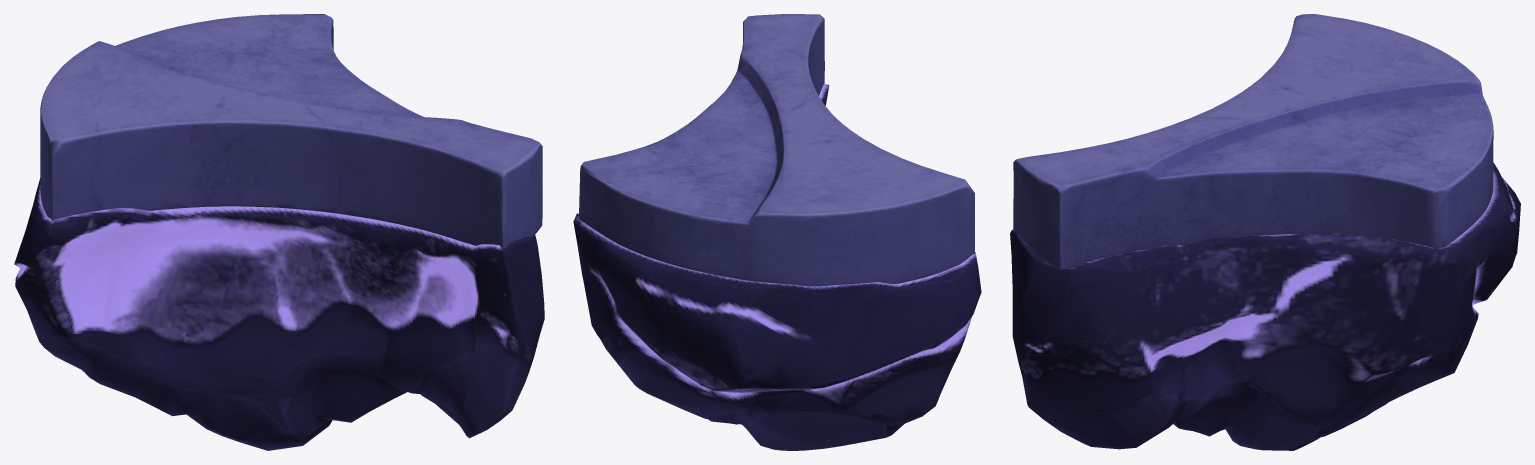
Rendered from sky_rock_02a1_nexus.glb.
3 renders of one model, left to right at view 1: azimuth 30°, elevation 25°; view 2: azimuth 150°, elevation 25°; view 3: azimuth 270°, elevation 25°, orthographic. The views are drawn at different scales.
Visible parts, largest first — view 1: rock_02a1; view 2: rock_02a1; view 3: rock_02a1.
Boxes of the visible parts, bbox=[...] form: rock_02a1: bbox=[14, 14, 544, 450]; rock_02a1: bbox=[573, 14, 981, 450]; rock_02a1: bbox=[1010, 14, 1520, 450].
Size of the model in its own units: 37.61 by 32.04 by 44.02.
Materials: 1 (1 with a texture image).
